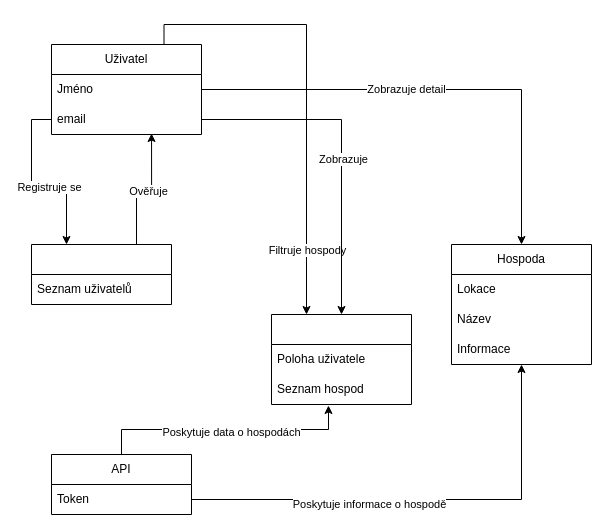
Some shapes in this 609 by 532 pixel diagram are drawn without their labels. The box of each missing label's shape, as (x1, y1, x2, y2) in pixels:
Databáze: (30, 244, 172, 304)
Mapa: (270, 314, 412, 404)
